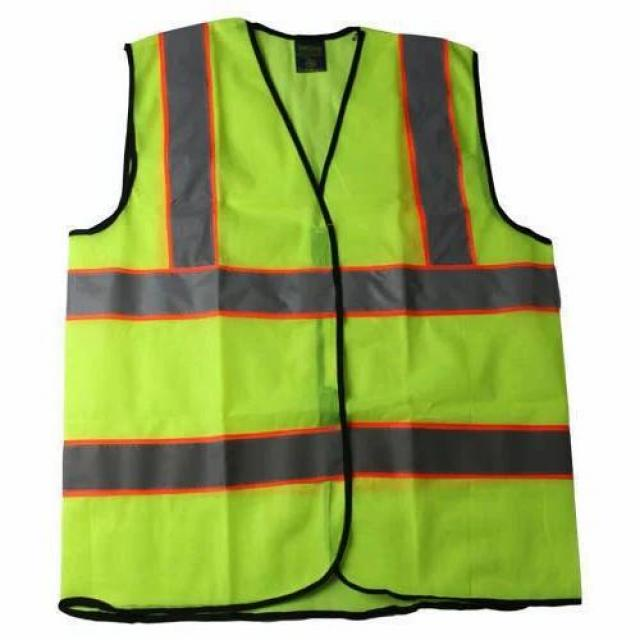Reflective-Jacket: (8, 6, 608, 640)
